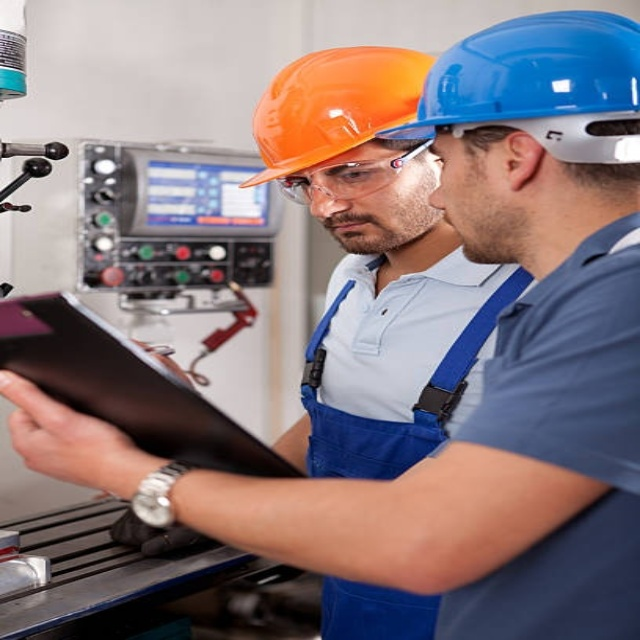Gafas: (276, 140, 435, 210)
Sin_gafas: (428, 134, 510, 176)
Sin_guantes: (2, 369, 160, 498)
Sin_mascara: (430, 199, 504, 264), (317, 215, 397, 253)
